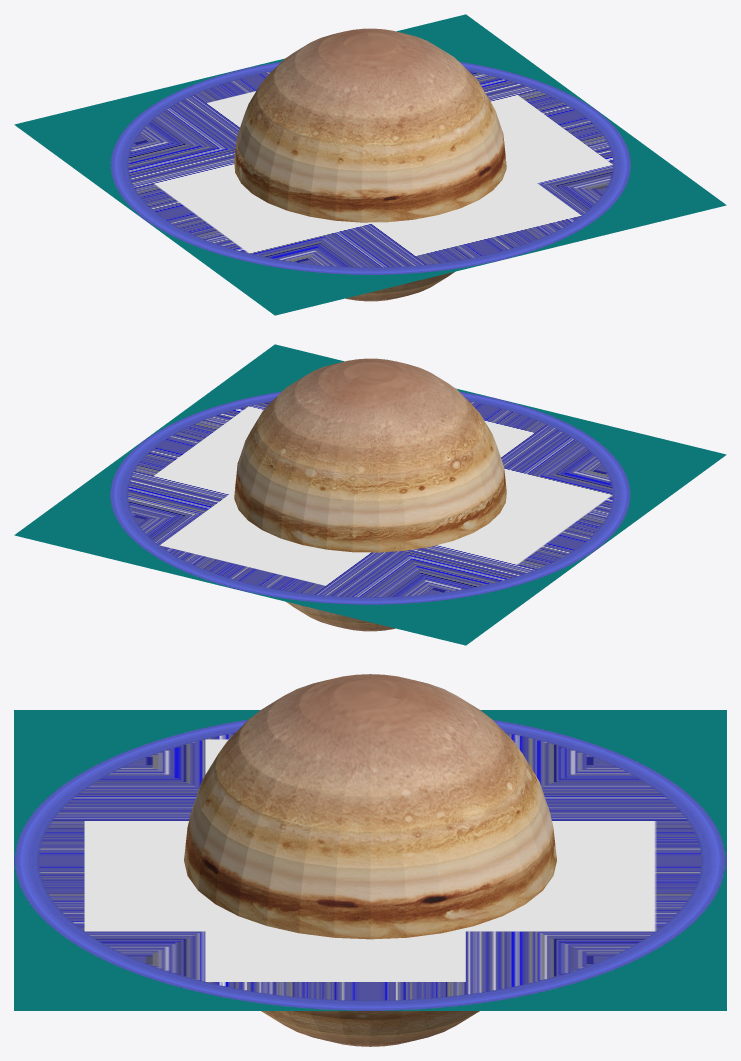
The model's file is jupiter_low_poly.obj.
3 views of the same model, one above another, from view 1: azimuth 30°, elevation 25°; view 2: azimuth 150°, elevation 25°; view 3: azimuth 270°, elevation 25° (orthographic). The views are drawn at different scales.
Visible parts, largest first — view 1: Plane_Plane.001, Sphere_Sphere.001; view 2: Plane_Plane.001, Sphere_Sphere.001; view 3: Plane_Plane.001, Sphere_Sphere.001.
Part boxes in pixels (x1=…): Plane_Plane.001: x1=14, y1=14, x2=726, y2=315; Sphere_Sphere.001: x1=234, y1=28, x2=506, y2=301; Plane_Plane.001: x1=14, y1=344, x2=726, y2=645; Sphere_Sphere.001: x1=234, y1=358, x2=506, y2=631; Plane_Plane.001: x1=14, y1=710, x2=726, y2=1010; Sphere_Sphere.001: x1=184, y1=674, x2=556, y2=1046.
Bounding box in the file's own units: 3.82 × 2 × 3.82.
Materials: 2 (2 with a texture image).
